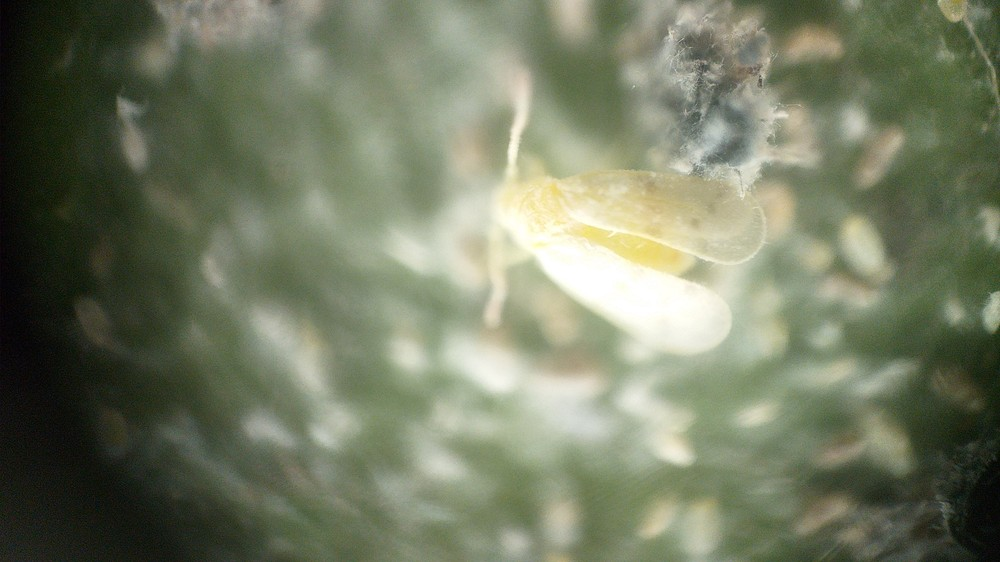Mosca Blanca: (425, 63, 791, 391)
